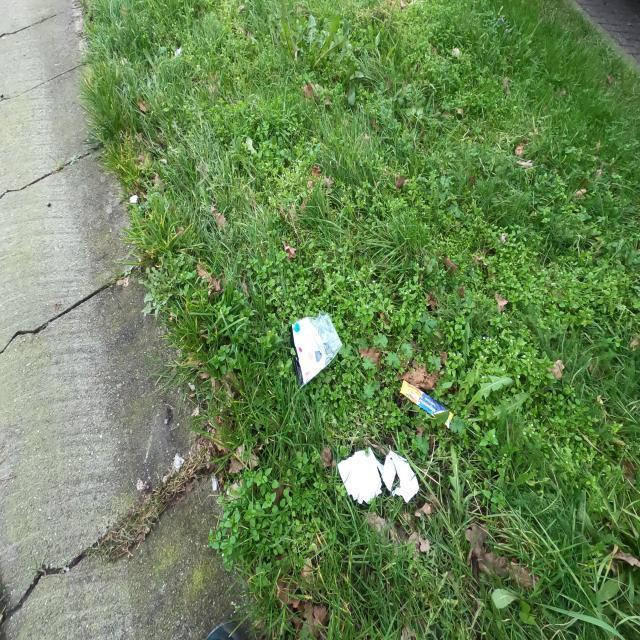Plastic: (290, 312, 343, 389), (400, 380, 454, 430)
